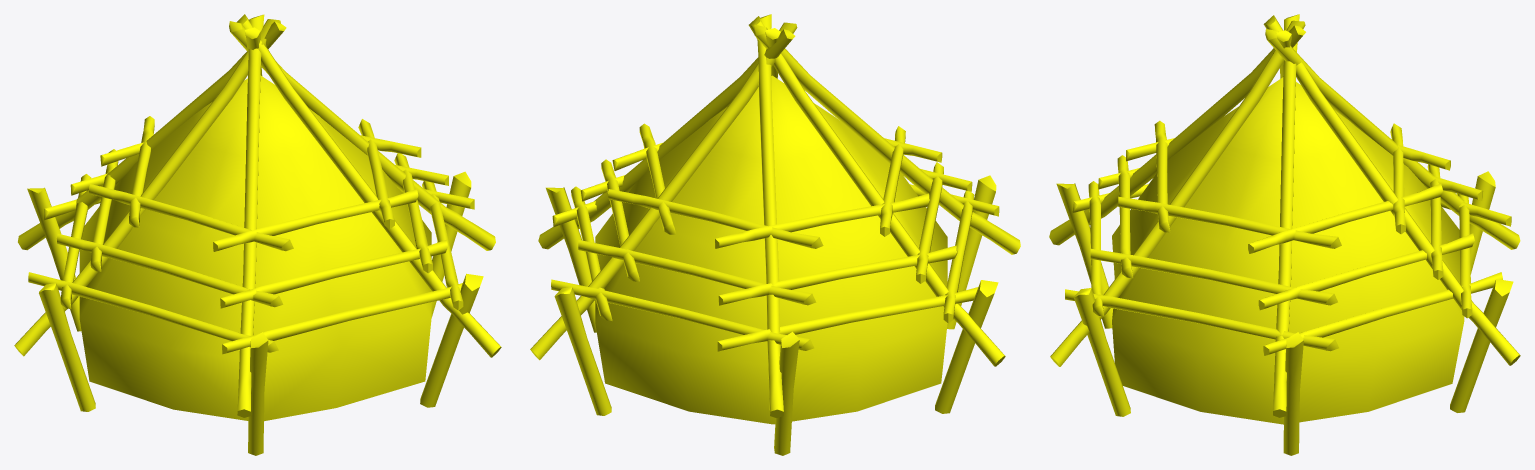
The model's file is camp_manticore_02.glb.
3 views of the same model, side by side, from view 1: azimuth 30°, elevation 25°; view 2: azimuth 150°, elevation 25°; view 3: azimuth 270°, elevation 25° (orthographic).
Parts seen in each view (by area): view 1: camp_manticore_02; view 2: camp_manticore_02; view 3: camp_manticore_02.
Part boxes in pixels (box(x1,y1,x2,y2)): camp_manticore_02: box(14, 14, 501, 455); camp_manticore_02: box(530, 14, 1020, 455); camp_manticore_02: box(1049, 14, 1520, 455).
Bounding box in the file's own units: 14.09 × 9.91 × 12.19.
Materials: 1 (1 with a texture image).
